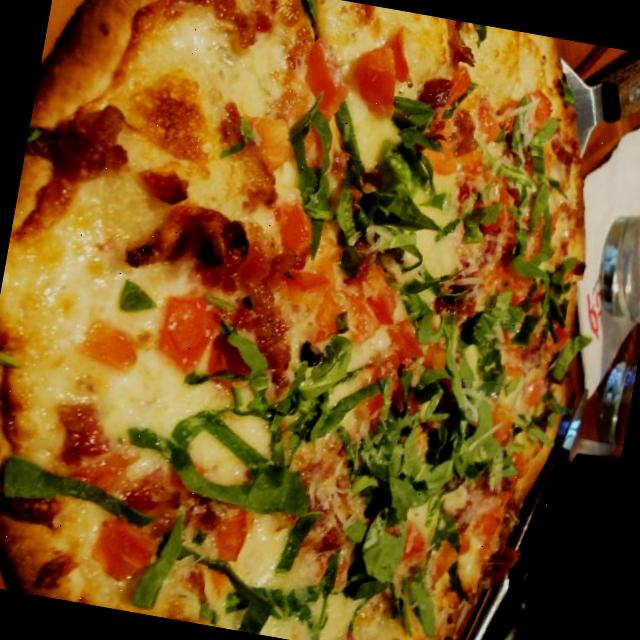basil: (345, 362, 513, 538), (360, 96, 470, 278), (123, 400, 274, 508), (0, 445, 159, 532), (270, 323, 374, 456), (319, 136, 413, 282), (198, 551, 351, 640), (272, 95, 372, 216), (423, 284, 529, 386), (493, 105, 568, 232), (205, 312, 284, 424), (328, 502, 404, 618), (132, 496, 200, 620), (496, 230, 578, 328), (235, 434, 315, 521), (374, 567, 451, 635), (452, 180, 510, 255), (272, 502, 322, 579), (546, 327, 597, 388), (214, 114, 262, 164), (114, 276, 161, 318), (286, 0, 333, 41), (458, 20, 493, 50)
pizza: (0, 0, 584, 640)
tomato: (292, 22, 362, 122), (150, 288, 227, 378), (348, 24, 418, 116), (86, 511, 160, 588), (268, 195, 322, 264), (208, 502, 258, 562), (358, 278, 408, 334), (282, 260, 334, 304), (380, 313, 425, 362), (397, 518, 438, 566), (473, 93, 508, 141)
